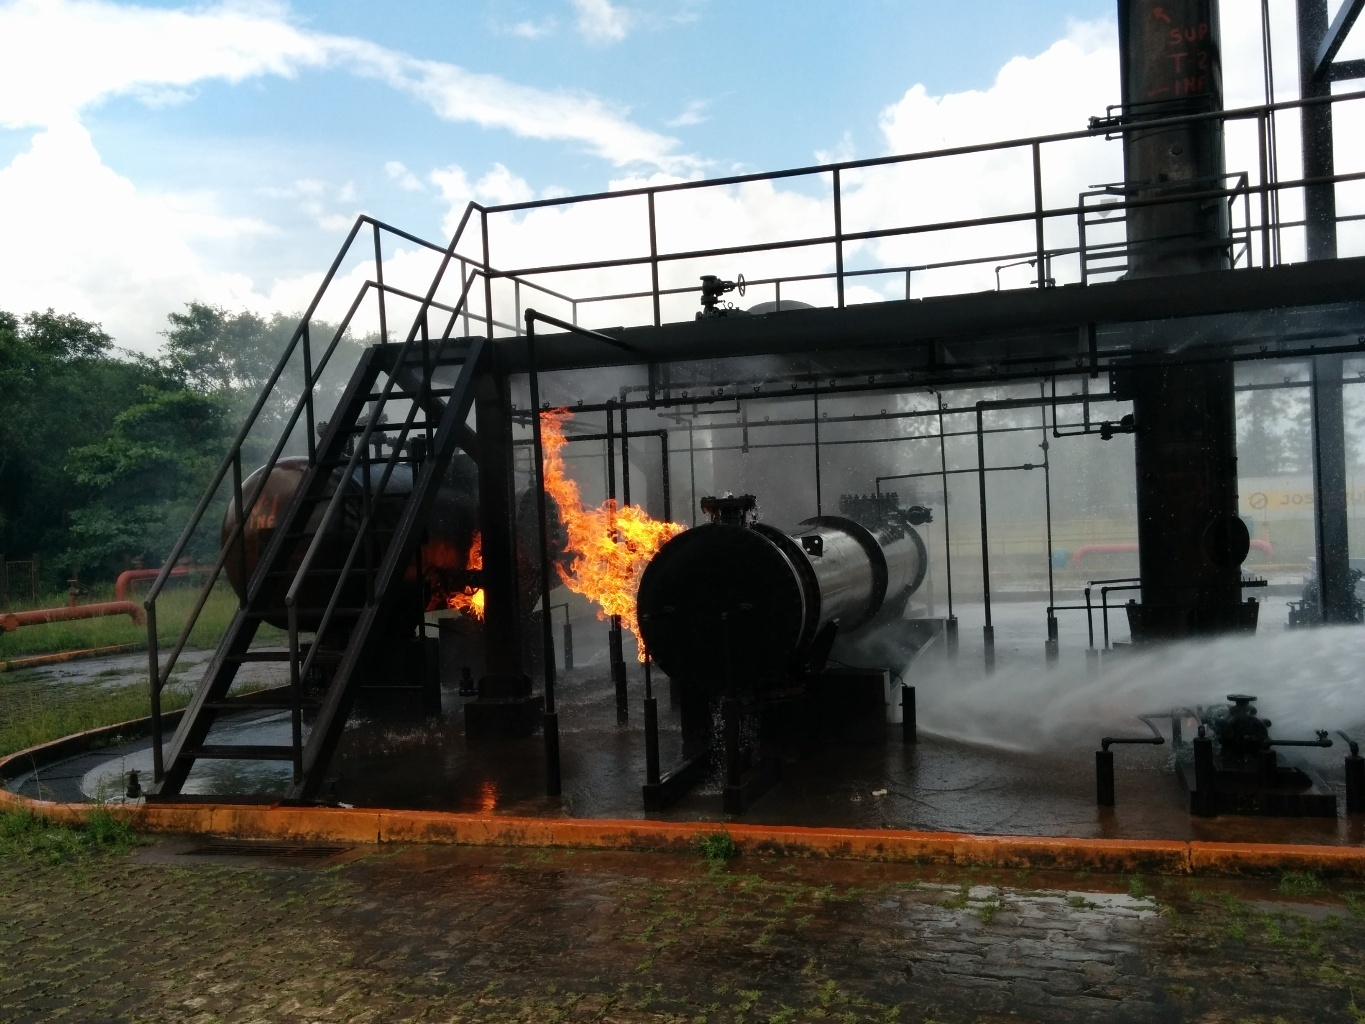fire: (535, 414, 686, 663), (438, 536, 487, 618)
